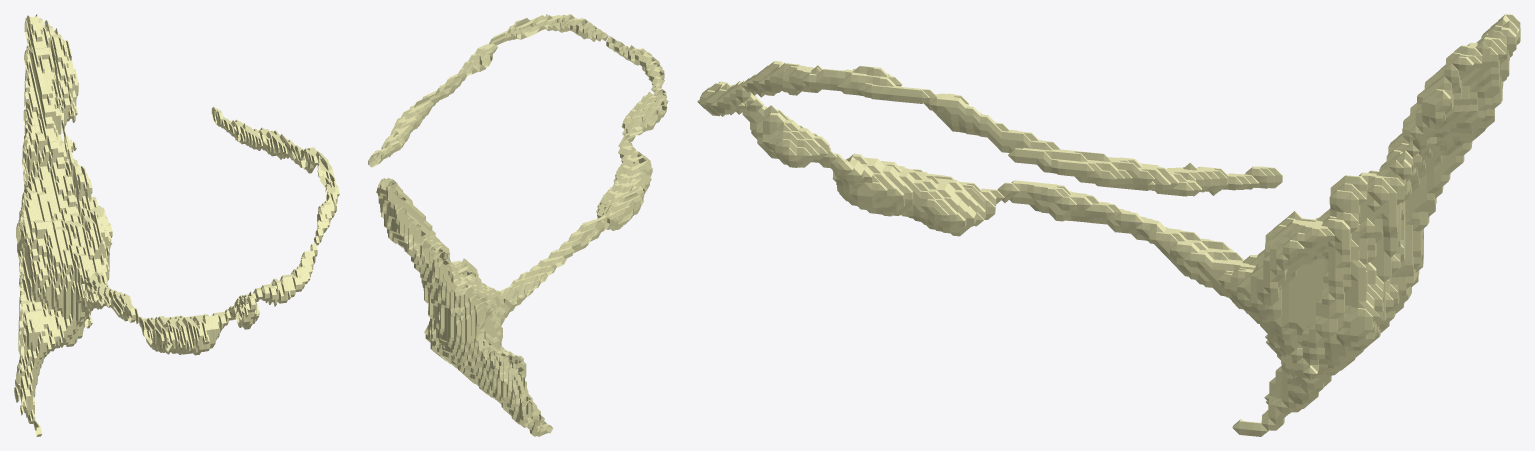
The model's file is SVV_IL2R.gltf.
3 renders of one model, left to right at view 1: azimuth 30°, elevation 25°; view 2: azimuth 150°, elevation 25°; view 3: azimuth 270°, elevation 25°, orthographic. The views are drawn at different scales.
Parts seen in each view (by area): view 1: IL2R; view 2: IL2R; view 3: IL2R.
Part boxes in pixels (left/top/right/bottom): IL2R: left=14, top=14, right=339, bottom=436; IL2R: left=368, top=14, right=668, bottom=436; IL2R: left=697, top=14, right=1520, bottom=436.
Bounding box in the file's own units: 31045 × 46835 × 73128.
